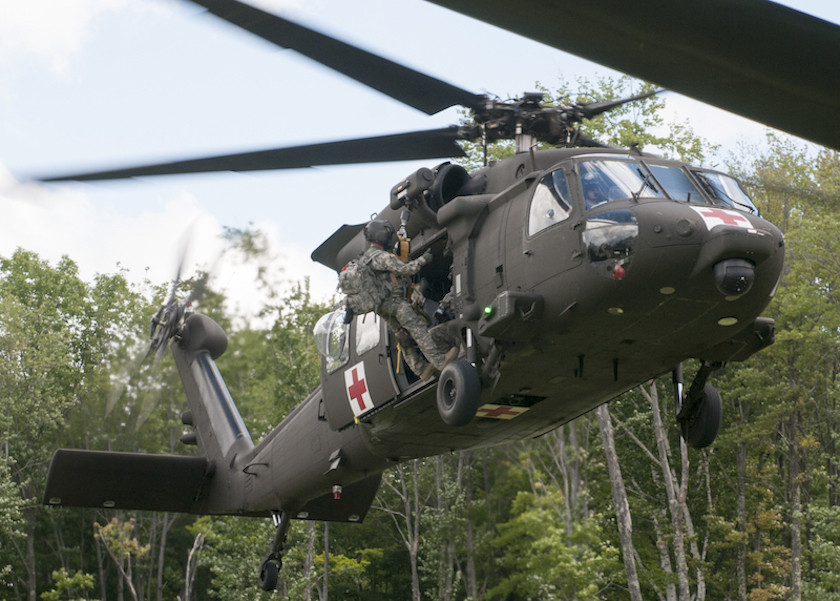MilitaryHelicopter: (40, 121, 762, 528)
